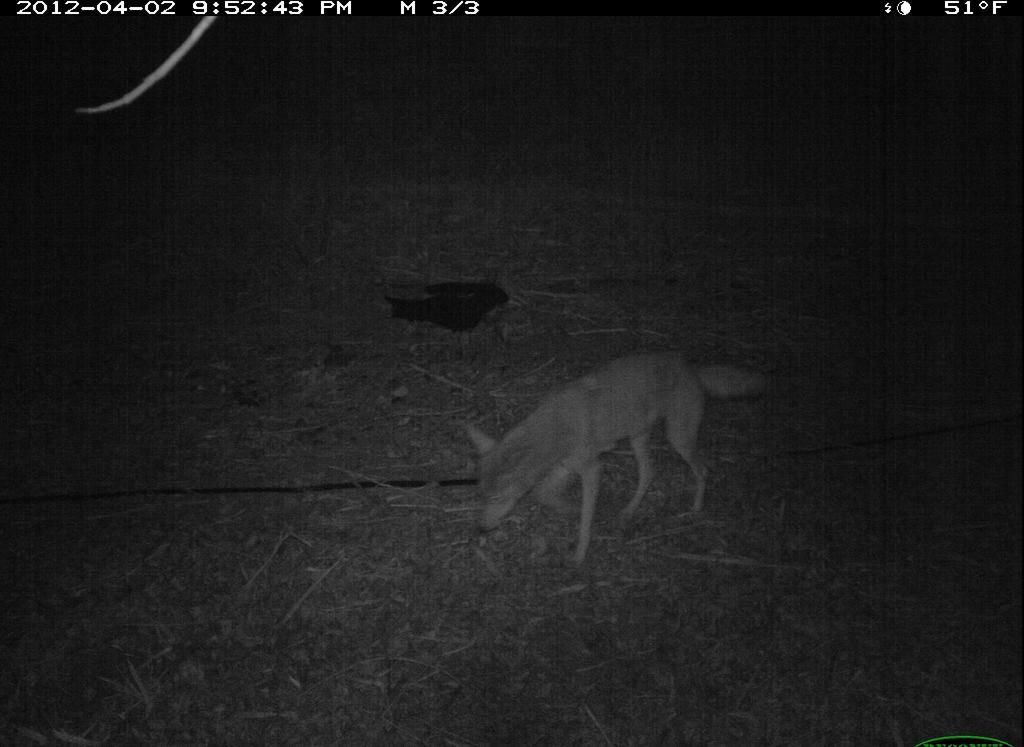coyote: (449, 335, 784, 575)
